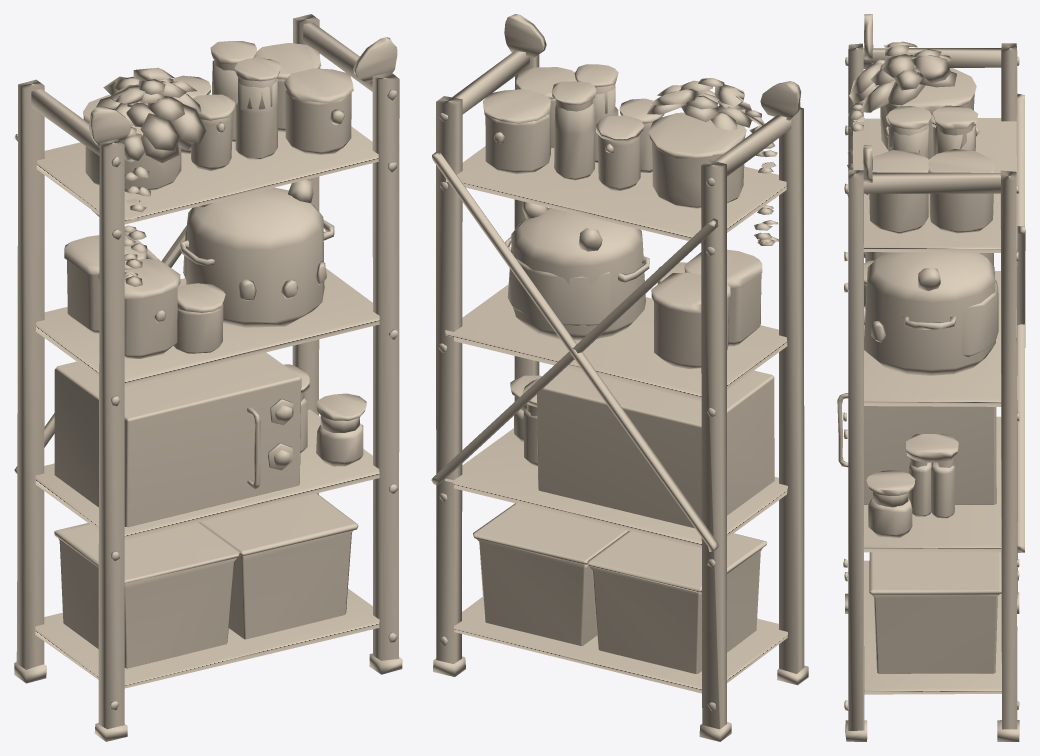
The model's file is kitchen-7-geometry.glb.
The picture shows the model from 3 angles, left to right: view 1: azimuth 30°, elevation 25°; view 2: azimuth 150°, elevation 25°; view 3: azimuth 270°, elevation 25°; orthographic projection. The views are drawn at different scales.
Bounding box in the file's own units: 0.5098 × 1 × 0.2881.
